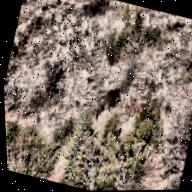boar: (87, 80, 133, 128)
